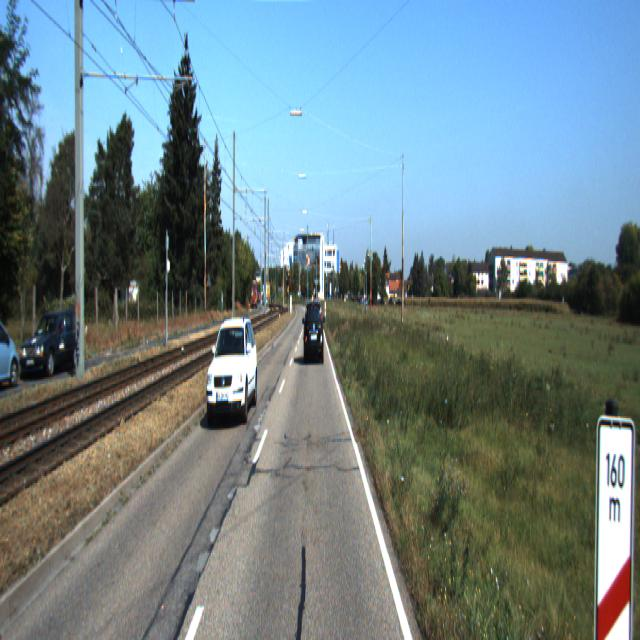Car: (207, 315, 260, 427), (18, 307, 85, 384), (0, 306, 22, 392), (304, 298, 324, 364)
